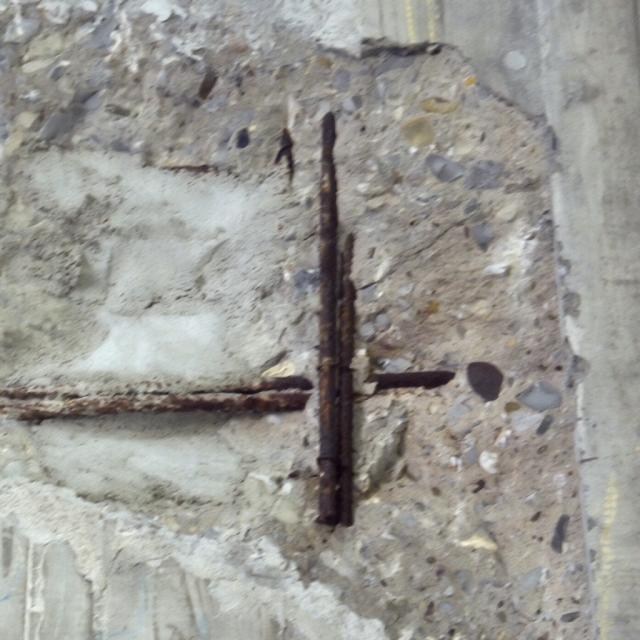D0w0: (6, 14, 589, 601)
